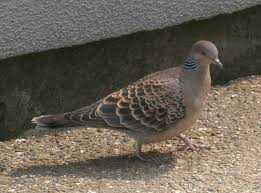pigeon: (28, 39, 230, 167)
